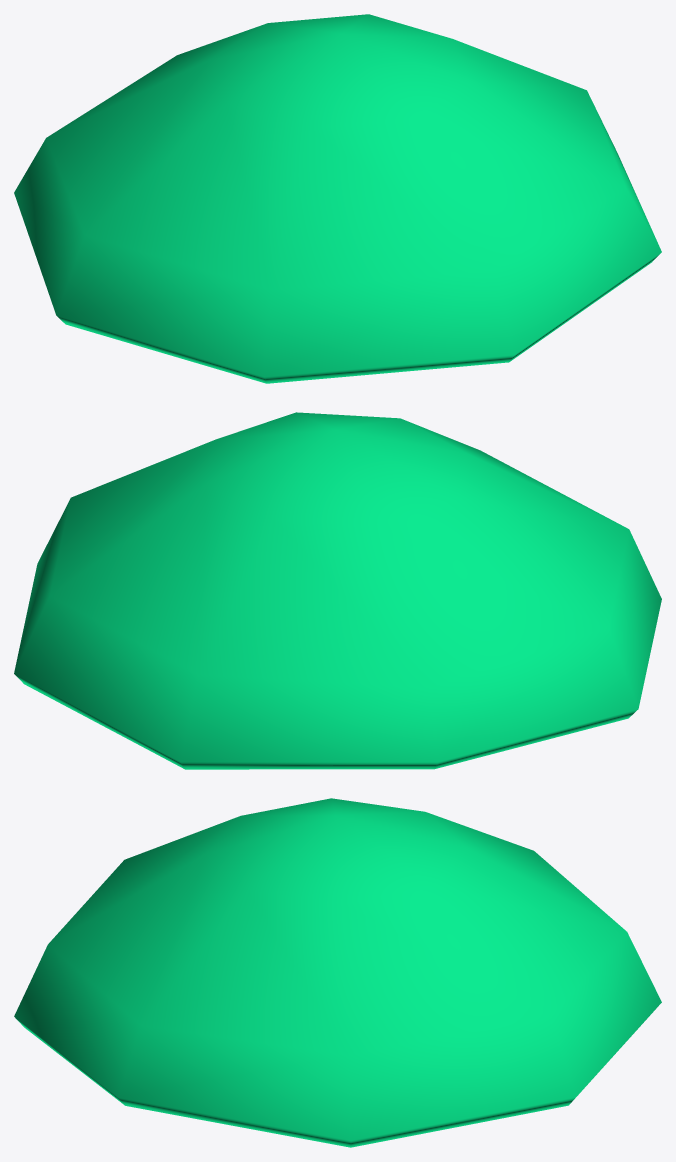
File: Mushroom_05_Head.fbx
3 views of the same model, one above another, from view 1: azimuth 30°, elevation 25°; view 2: azimuth 150°, elevation 25°; view 3: azimuth 270°, elevation 25° (orthographic). The views are drawn at different scales.
Parts seen in each view (by area): view 1: Mushroom_05_Head; view 2: Mushroom_05_Head; view 3: Mushroom_05_Head.
Part boxes in pixels (x1=…): Mushroom_05_Head: x1=14, y1=14, x2=661, y2=383; Mushroom_05_Head: x1=14, y1=412, x2=661, y2=769; Mushroom_05_Head: x1=14, y1=798, x2=661, y2=1147.
Bounding box in the file's own units: 62.66 × 22.67 × 62.67.
